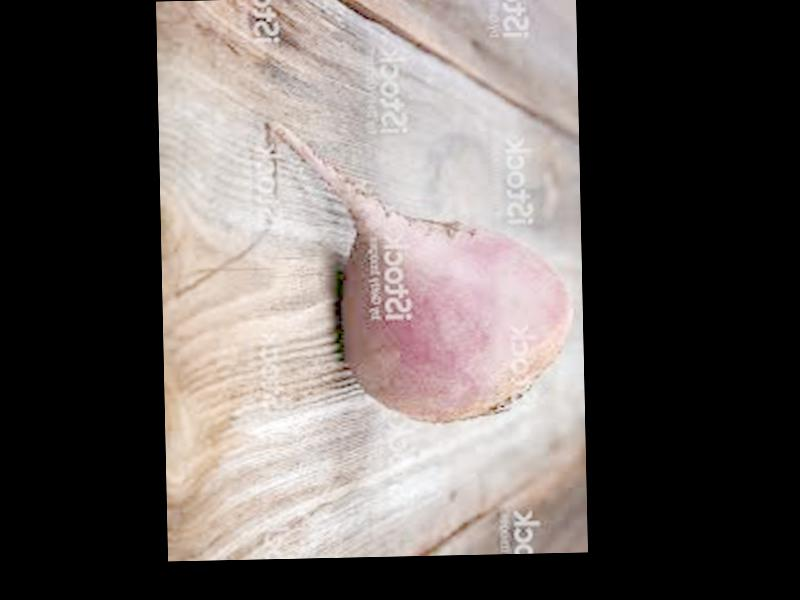Beet: (268, 112, 575, 426)
